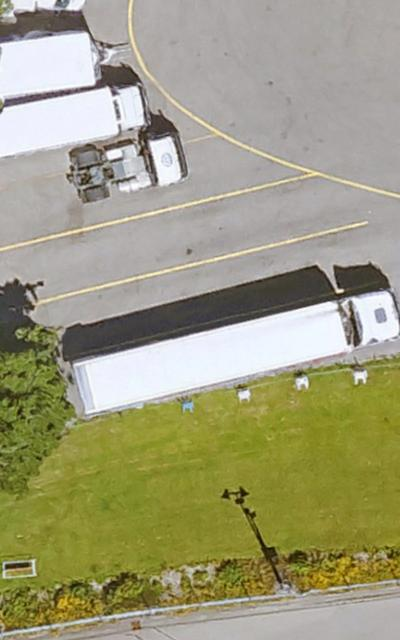tree: (1, 323, 69, 494)
